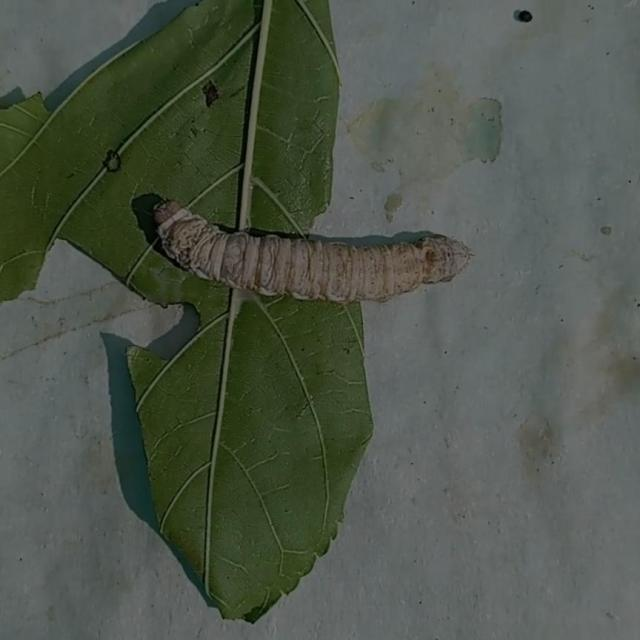Grasserie: (135, 182, 488, 312)
